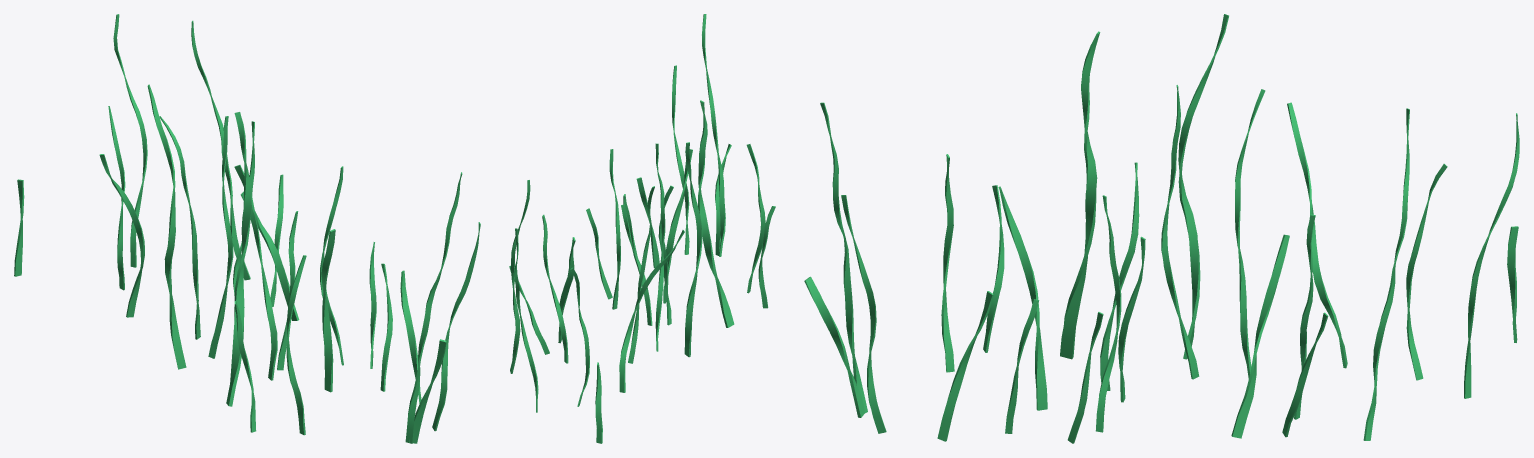
File: coral_seaweed_A_light.fbx
3 renders of one model, left to right at view 1: azimuth 30°, elevation 25°; view 2: azimuth 150°, elevation 25°; view 3: azimuth 270°, elevation 25°, orthographic. The views are drawn at different scales.
Parts seen in each view (by area): view 1: coral_seaweed_A_light; view 2: coral_seaweed_A_light; view 3: coral_seaweed_A_light.
Part boxes in pixels (box(x1,y1,x2,y2)): coral_seaweed_A_light: box(14, 14, 480, 443); coral_seaweed_A_light: box(509, 14, 775, 443); coral_seaweed_A_light: box(804, 14, 1519, 443).
Bounding box in the file's own units: 205 × 275 × 528.
